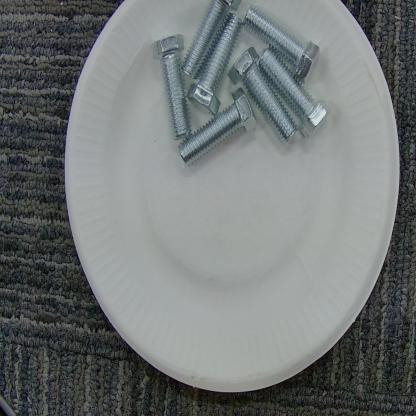FOD: (147, 0, 338, 169)
